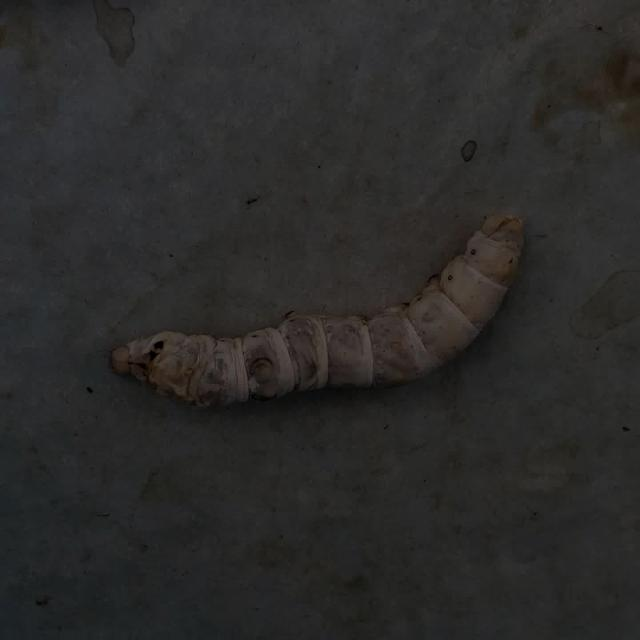Grasserie: (68, 178, 540, 436)
